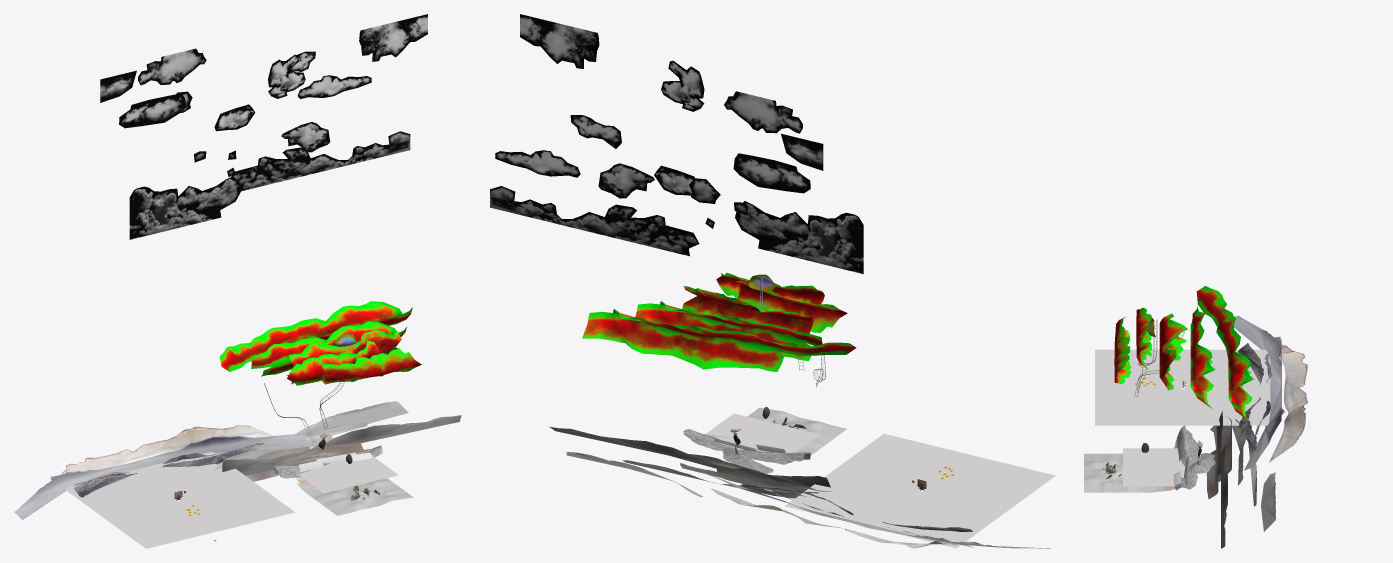
File: scenes.glb
3 views of the same model, side by side, from view 1: azimuth 30°, elevation 25°; view 2: azimuth 150°, elevation 25°; view 3: azimuth 270°, elevation 25° (orthographic). The views are drawn at different scales.
Visible parts, largest first — view 1: CloudsSantos, Plane.010, CloudsScene, Plane.006, BackgroundPrivee, cover_base, Plane.002, Plane.001; view 2: CloudsSantos, Plane.010, CloudsScene, BackgroundPrivee, Plane.002, Plane.006, Plane.001, cover_base; view 3: Plane.010, CloudsScene, Plane.006, BackgroundPrivee, Plane.002, cover_base, Plane.001.
Boxes of the visible parts, left/top/right/bottom form: CloudsSantos: left=100, top=14, right=427, bottom=239; Plane.010: left=64, top=452, right=295, bottom=548; CloudsScene: left=219, top=301, right=421, bottom=385; Plane.006: left=14, top=425, right=306, bottom=519; BackgroundPrivee: left=215, top=401, right=461, bottom=481; cover_base: left=296, top=478, right=413, bottom=515; Plane.002: left=298, top=457, right=398, bottom=493; Plane.001: left=272, top=445, right=382, bottom=478; CloudsSantos: left=490, top=14, right=863, bottom=273; Plane.010: left=784, top=433, right=1055, bottom=548; CloudsScene: left=582, top=272, right=856, bottom=371; BackgroundPrivee: left=549, top=426, right=831, bottom=498; Plane.002: left=694, top=413, right=819, bottom=452; Plane.006: left=700, top=472, right=1050, bottom=548; Plane.001: left=683, top=429, right=811, bottom=473; cover_base: left=747, top=407, right=846, bottom=461; Plane.010: left=1095, top=349, right=1270, bottom=425; CloudsScene: left=1114, top=286, right=1253, bottom=423; Plane.006: left=1234, top=315, right=1307, bottom=470; BackgroundPrivee: left=1206, top=411, right=1275, bottom=548; Plane.002: left=1123, top=448, right=1195, bottom=486; cover_base: left=1084, top=453, right=1170, bottom=492; Plane.001: left=1174, top=425, right=1215, bottom=490.
Bounding box in the file's own units: 160 × 136 × 88.75.
Materials: 25 (22 with a texture image).
